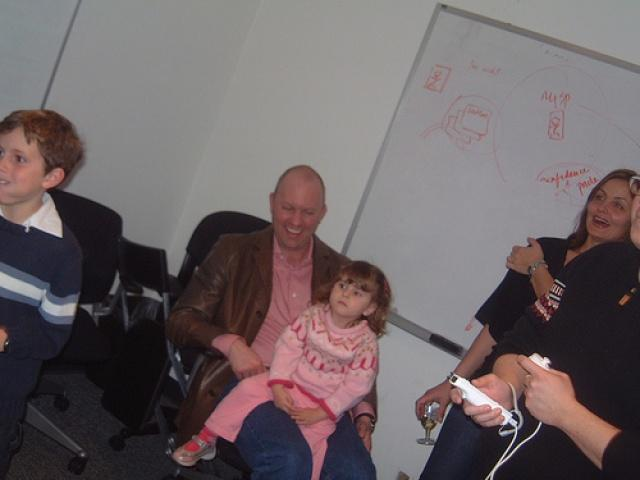Whiteboard: (337, 1, 639, 361)
